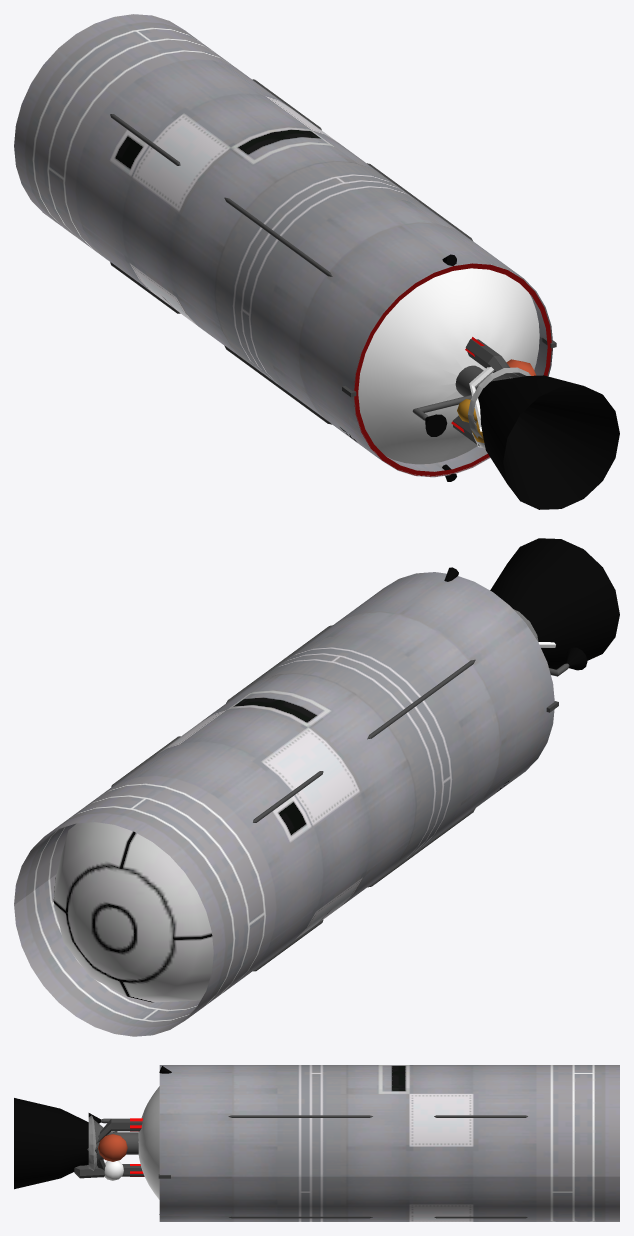
File: titani_stage2.obj
3 renders of one model, top to bottom at view 1: azimuth 30°, elevation 25°; view 2: azimuth 150°, elevation 25°; view 3: azimuth 270°, elevation 25°, orthographic. The views are drawn at different scales.
Visible parts, largest first — view 1: group1, group7, group11, group12, group21, group9, group10, group19, group17; view 2: group1, group0, group12, group21; view 3: group1, group12, group7, group21, group8, group19, group17, group20, group23, group6.
Boxes of the visible parts, <box> form: group1: <box>14,14,552,477</box>; group7: <box>358,268,539,464</box>; group11: <box>503,386,619,509</box>; group12: <box>478,375,583,483</box>; group21: <box>110,79,472,424</box>; group9: <box>354,263,551,393</box>; group10: <box>354,346,551,476</box>; group19: <box>465,339,512,379</box>; group17: <box>455,365,525,430</box>; group1: <box>14,572,554,1036</box>; group0: <box>53,822,213,1002</box>; group12: <box>490,538,619,669</box>; group21: <box>111,625,475,971</box>; group1: <box>159,1065,619,1221</box>; group12: <box>14,1098,88,1189</box>; group7: <box>138,1086,159,1199</box>; group21: <box>228,1115,527,1218</box>; group8: <box>98,1134,127,1161</box>; group19: <box>87,1118,142,1169</box>; group17: <box>93,1119,138,1163</box>; group20: <box>74,1164,144,1178</box>; group23: <box>88,1115,96,1170</box>; group6: <box>104,1160,123,1180</box>.
Bounding box in the file's own units: 2.51 × 2.66 × 9.44.
Materials: 11 (2 with a texture image).
